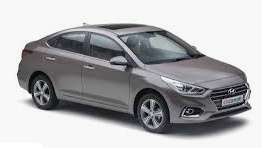car: (15, 22, 253, 135)
